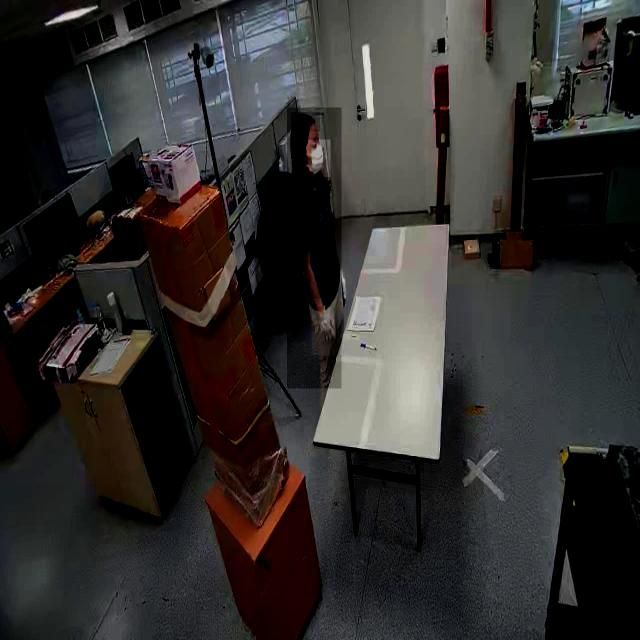face_mask: (306, 139, 331, 177)
hand_glove: (311, 298, 341, 356)
head_nohelmet: (290, 112, 320, 132)
person: (286, 108, 342, 390)
